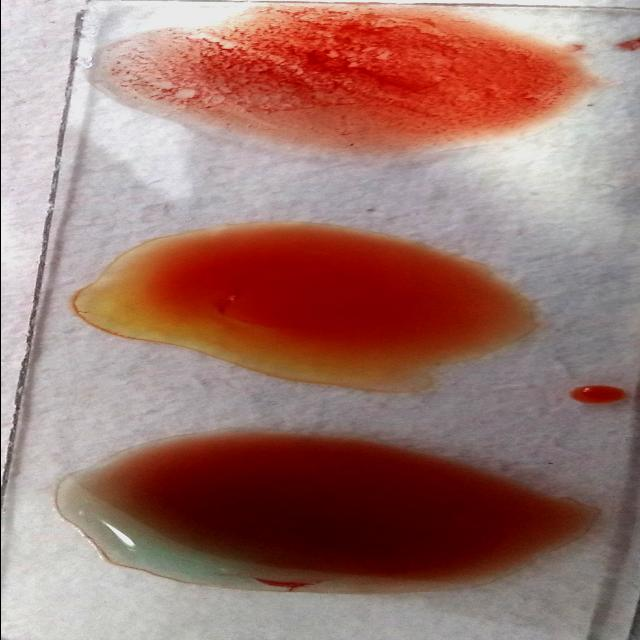D: (95, 10, 584, 152)
